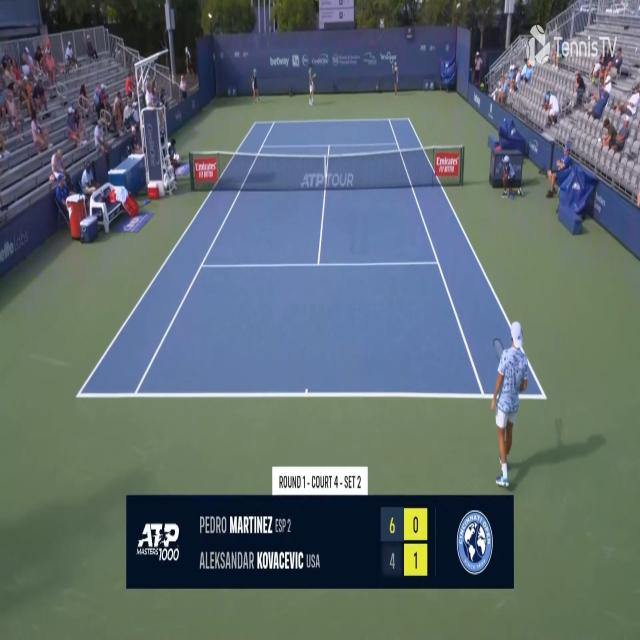tennis-player: (490, 318, 532, 490), (306, 63, 317, 106)
